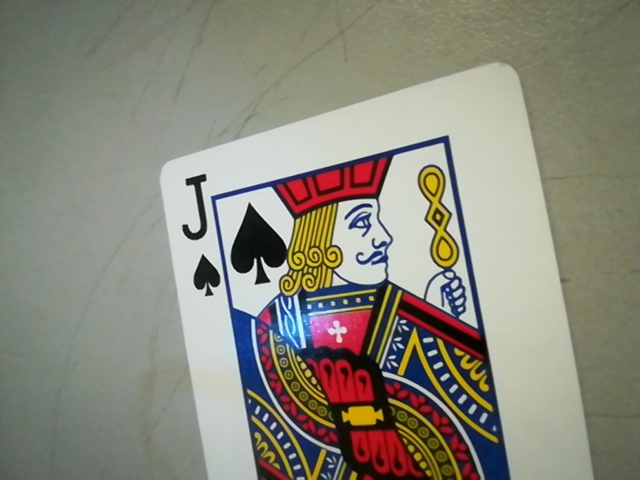ht j: (175, 158, 227, 305)
